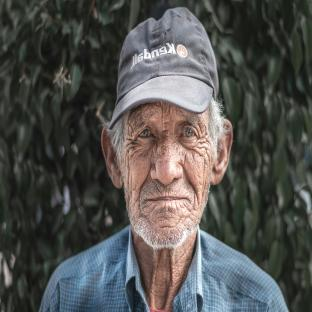Human: (40, 7, 287, 312)
